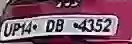1: (19, 20, 26, 37)
2: (103, 18, 112, 33)
3: (86, 18, 94, 33)
4: (24, 19, 33, 37), (78, 18, 88, 33)
5: (95, 16, 104, 34)
B: (55, 17, 66, 35)
D: (46, 18, 55, 35)
P: (12, 21, 20, 37)
U: (2, 22, 13, 40)
